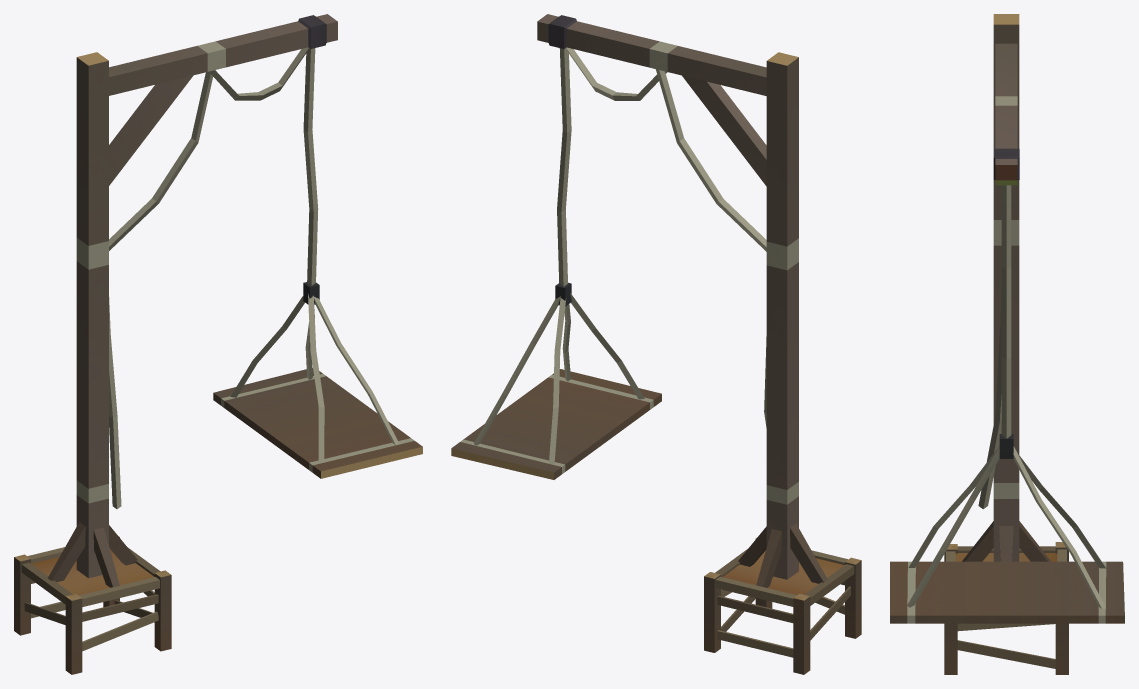
Rendered from Crane_2_LOD1.fbx.
3 views of the same model, side by side, from view 1: azimuth 30°, elevation 25°; view 2: azimuth 150°, elevation 25°; view 3: azimuth 270°, elevation 25° (orthographic). The views are drawn at different scales.
Parts seen in each view (by area): view 1: polySurface9801; view 2: polySurface9801; view 3: polySurface9801.
Boxes of the visible parts, bbox=[...] form: polySurface9801: bbox=[14, 14, 422, 674]; polySurface9801: bbox=[451, 14, 861, 674]; polySurface9801: bbox=[890, 14, 1124, 674].
Bounding box in the file's own units: 366 × 625 × 211.
